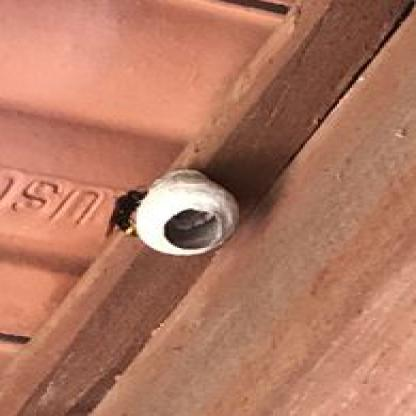Asian Hornet: (104, 185, 156, 239)
